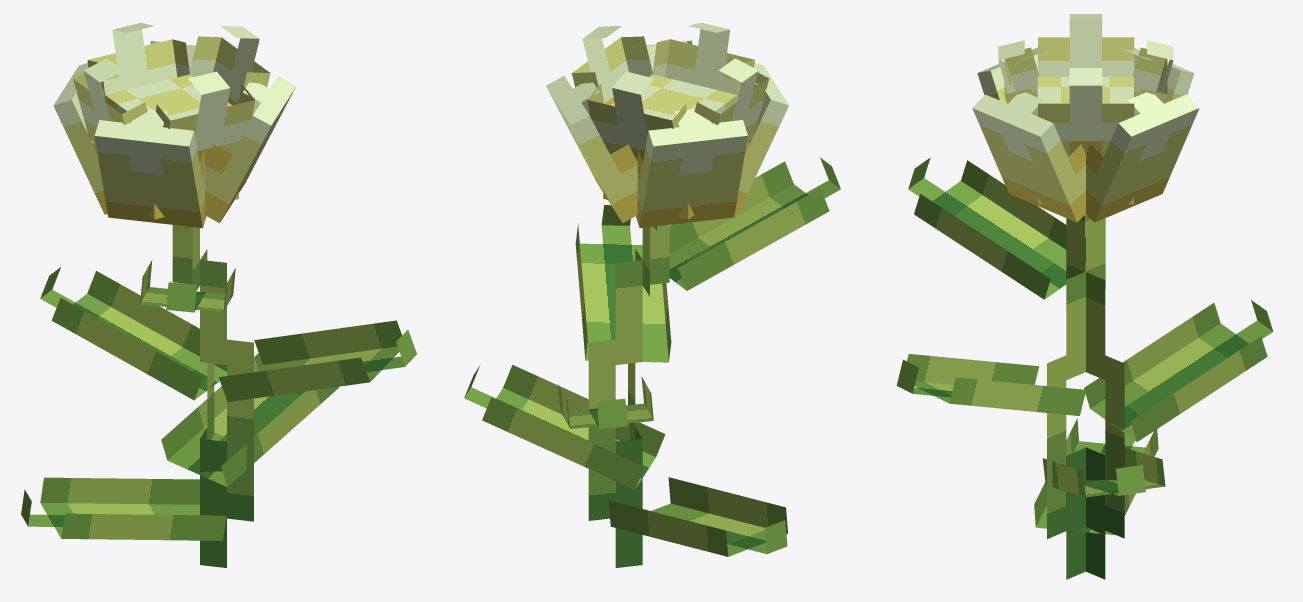
The model's file is peony-stage3.gltf.
The picture shows the model from 3 angles, left to right: view 1: azimuth 30°, elevation 25°; view 2: azimuth 150°, elevation 25°; view 3: azimuth 270°, elevation 25°; orthographic projection.
Parts seen in each view (by area): view 1: cube (×15); view 2: cube (×15); view 3: cube (×16).
Boxes of the visible parts, box(x1,y1,x2,y2) form: cube (×15): box(21, 22, 416, 567); cube (×15): box(464, 22, 840, 567); cube (×16): box(896, 14, 1273, 579).
Size of the model in its own units: 0.8397 by 1.3 by 0.9265.
1 material, 1 textured.
